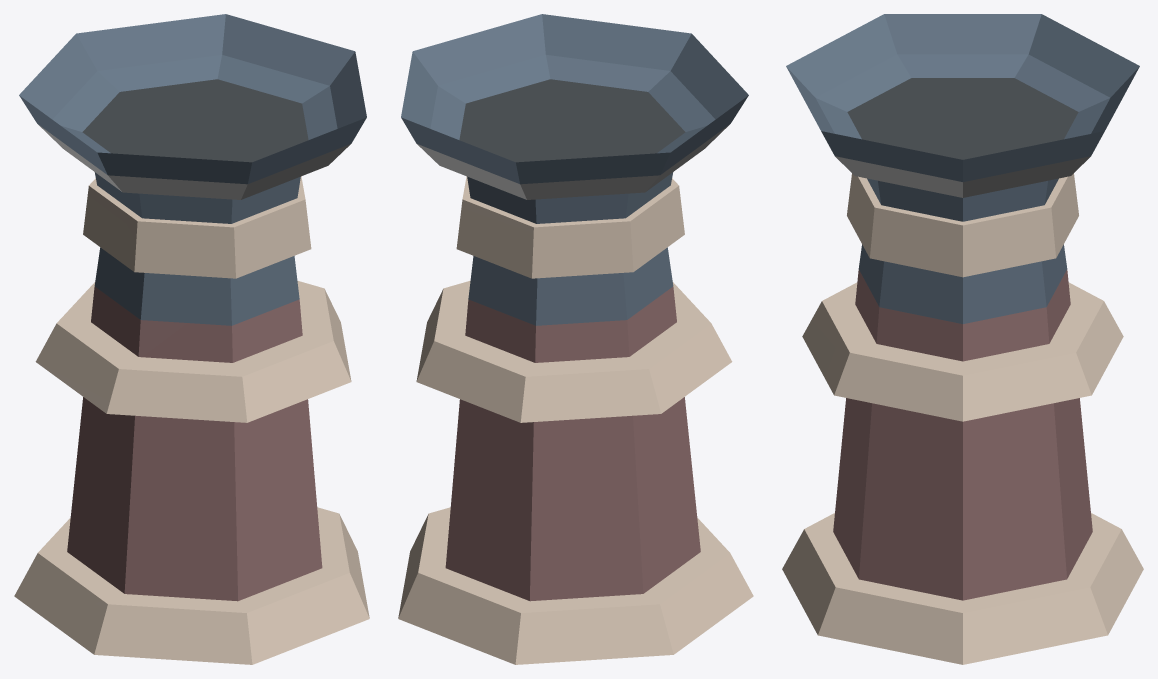
The model's file is torchstun.fbx.
3 views of the same model, side by side, from view 1: azimuth 30°, elevation 25°; view 2: azimuth 150°, elevation 25°; view 3: azimuth 270°, elevation 25° (orthographic).
Visible parts, largest first — view 1: torchstun; view 2: torchstun; view 3: torchstun.
Part boxes in pixels (x1,y1,x2,y2): torchstun: [14, 14, 369, 664]; torchstun: [398, 14, 753, 664]; torchstun: [782, 14, 1143, 664].
Bounding box in the file's own units: 25.07 × 39.51 × 25.72.
